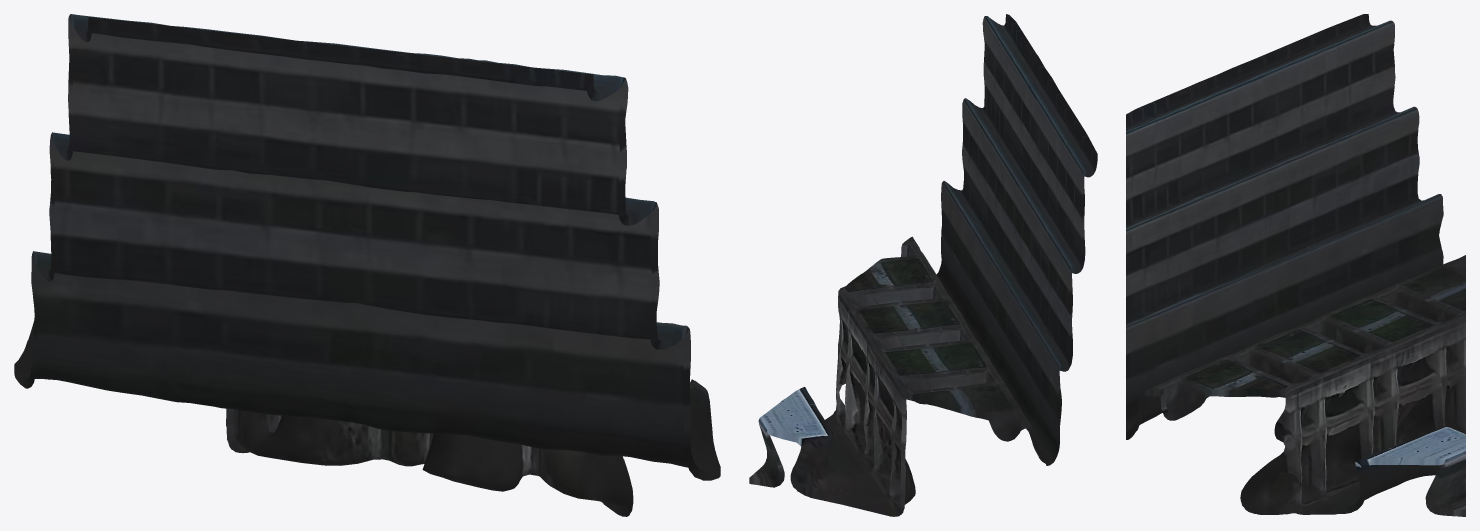
Rendered from z20-167784-405228-h0-yup-uvflip-v3-world.glb.
3 renders of one model, left to right at view 1: azimuth 30°, elevation 25°; view 2: azimuth 150°, elevation 25°; view 3: azimuth 270°, elevation 25°, orthographic. The views are drawn at different scales.
Bounding box in the file's own units: 30.16 × 35.44 × 30.32.
Materials: 1 (1 with a texture image).
